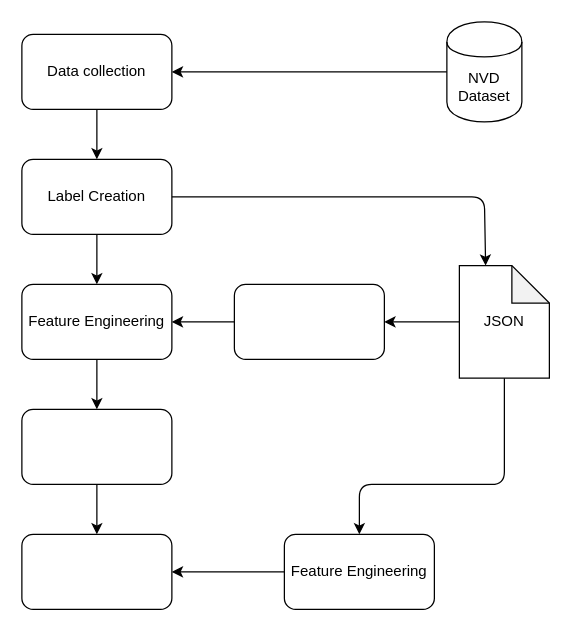
Some shapes in this 571 by 631 pixel diagram are drawn without their labels. The centre of each missing label's shape, as x and y in pixels:
Algorithm selection: point (96, 446)
CWE Code analysis: point (308, 321)
Performance Evluation: point (96, 571)
